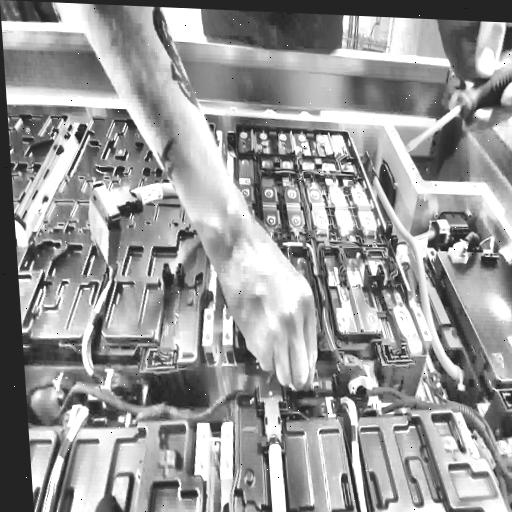high_volt_cable: (358, 148, 469, 386), (87, 178, 185, 276), (258, 398, 288, 512)
low_volt_cable: (47, 366, 512, 478), (38, 279, 114, 512), (292, 149, 345, 365), (340, 392, 371, 512)
nut: (499, 440, 508, 453), (482, 404, 489, 414)
